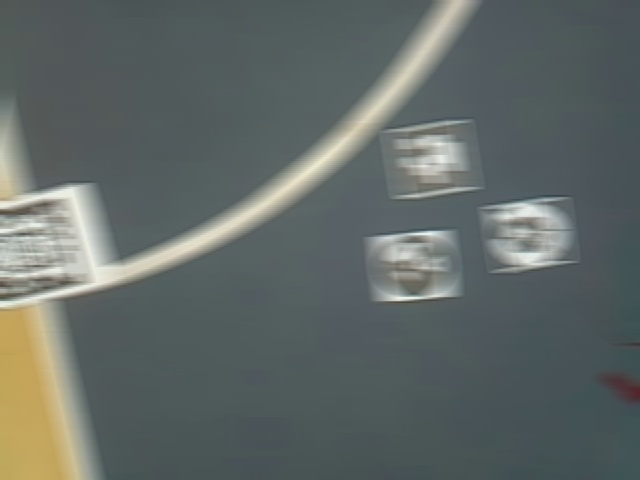landing-zone: (479, 196, 585, 273)
